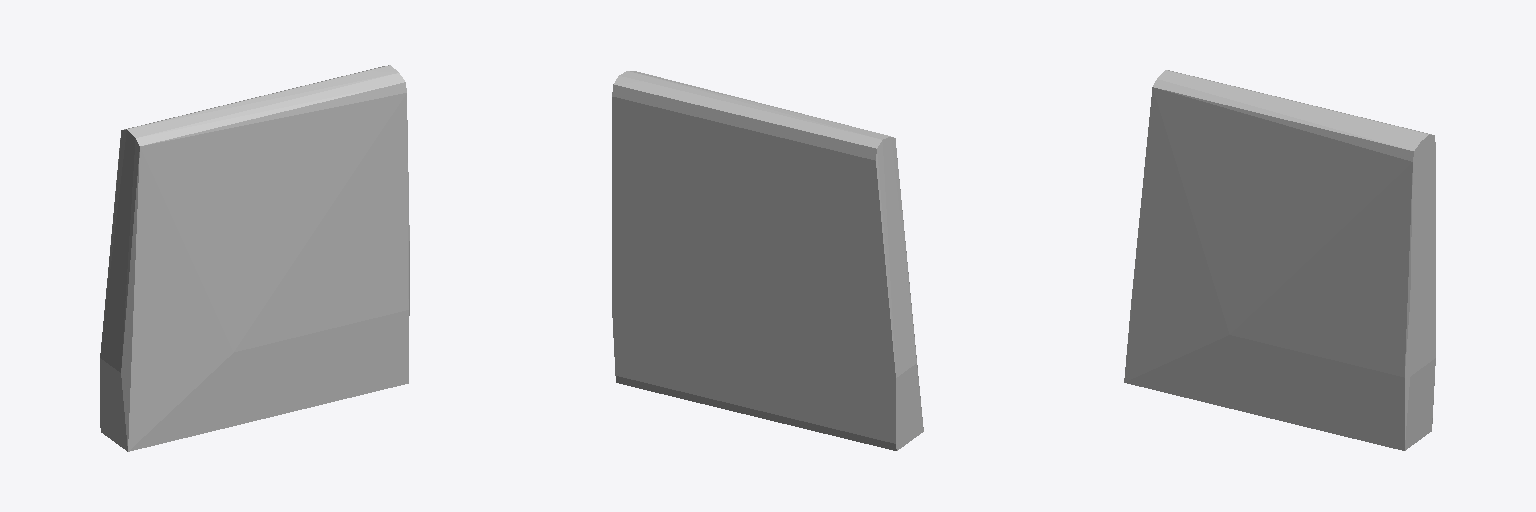
Rendered from ShipScene_collision_32.obj.
3 renders of one model, left to right at view 1: azimuth 30°, elevation 25°; view 2: azimuth 150°, elevation 25°; view 3: azimuth 330°, elevation 25°, orthographic.
Size of the model in its own units: 97.57 by 99.29 by 16.65.